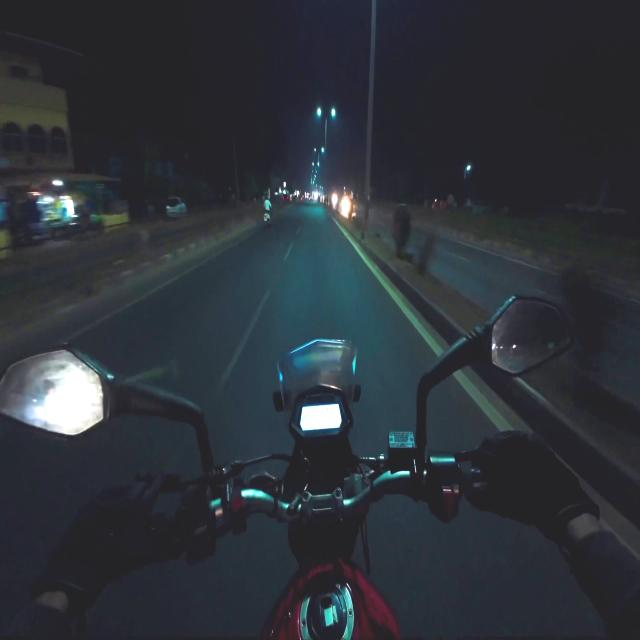car: (165, 198, 187, 216)
motorcycle: (0, 297, 571, 639), (264, 212, 270, 226)
